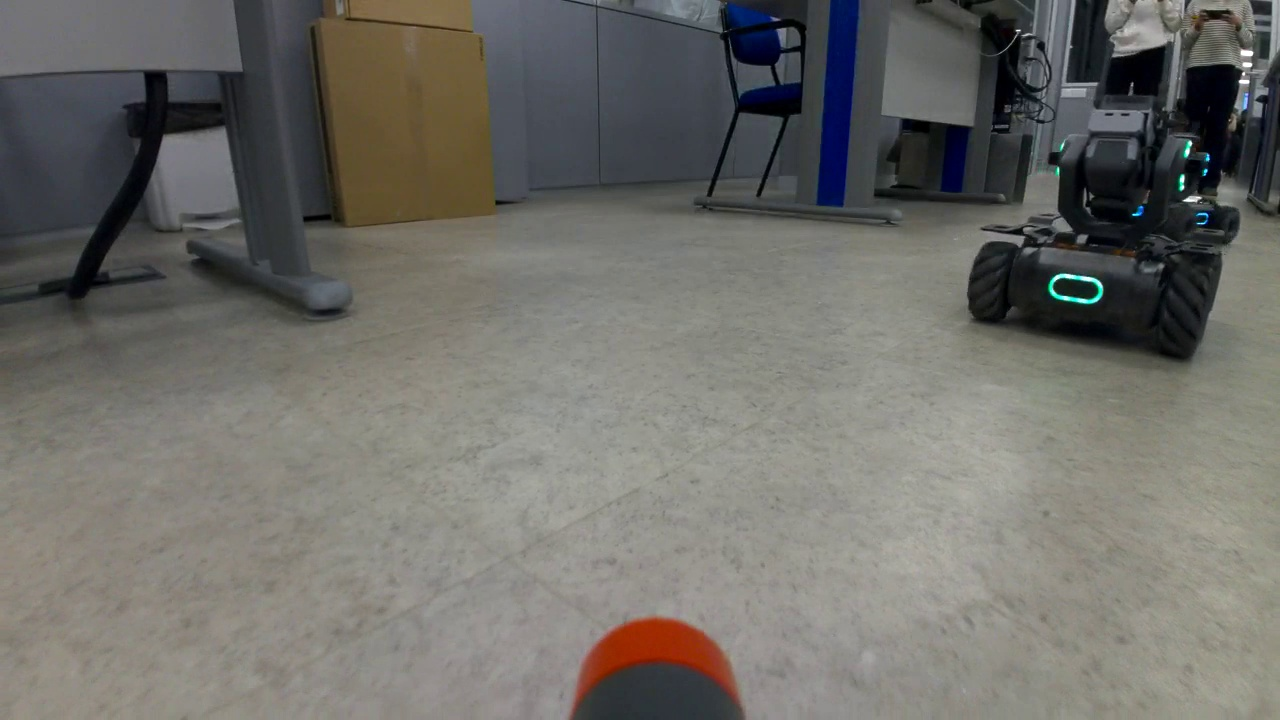robot: (965, 100, 1227, 367)
